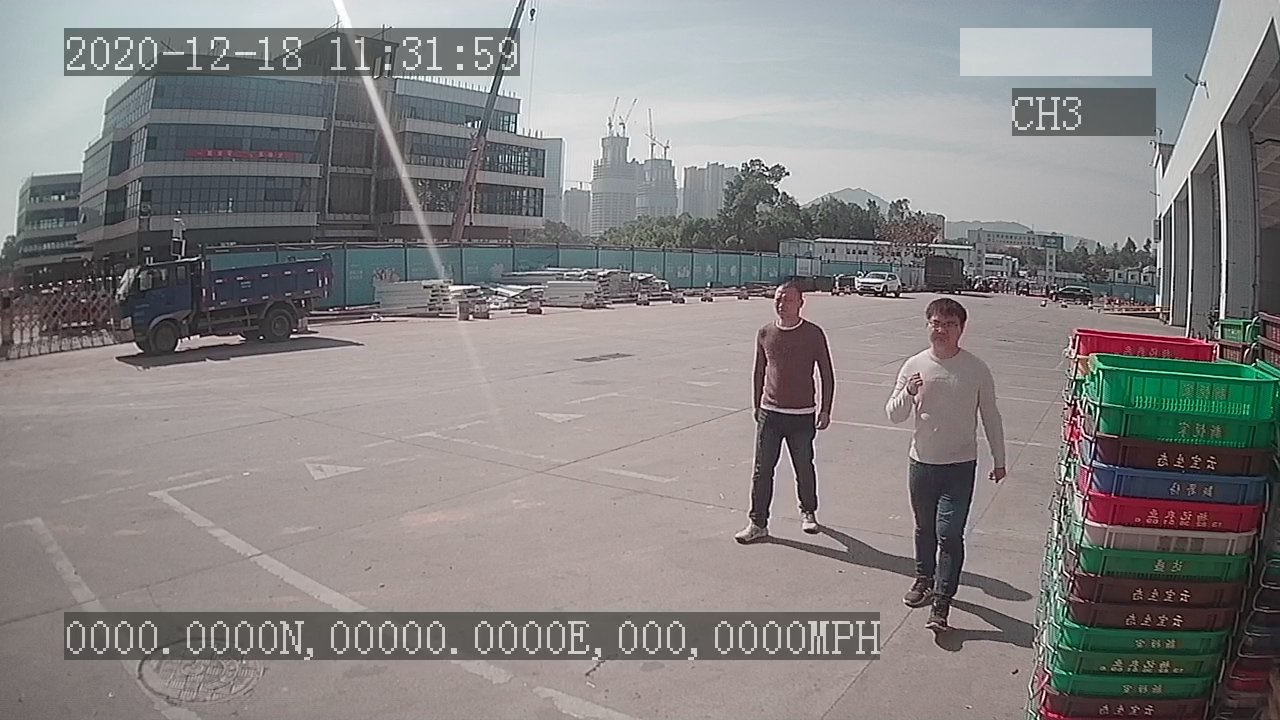person: (886, 295, 1008, 633), (734, 283, 836, 546)
